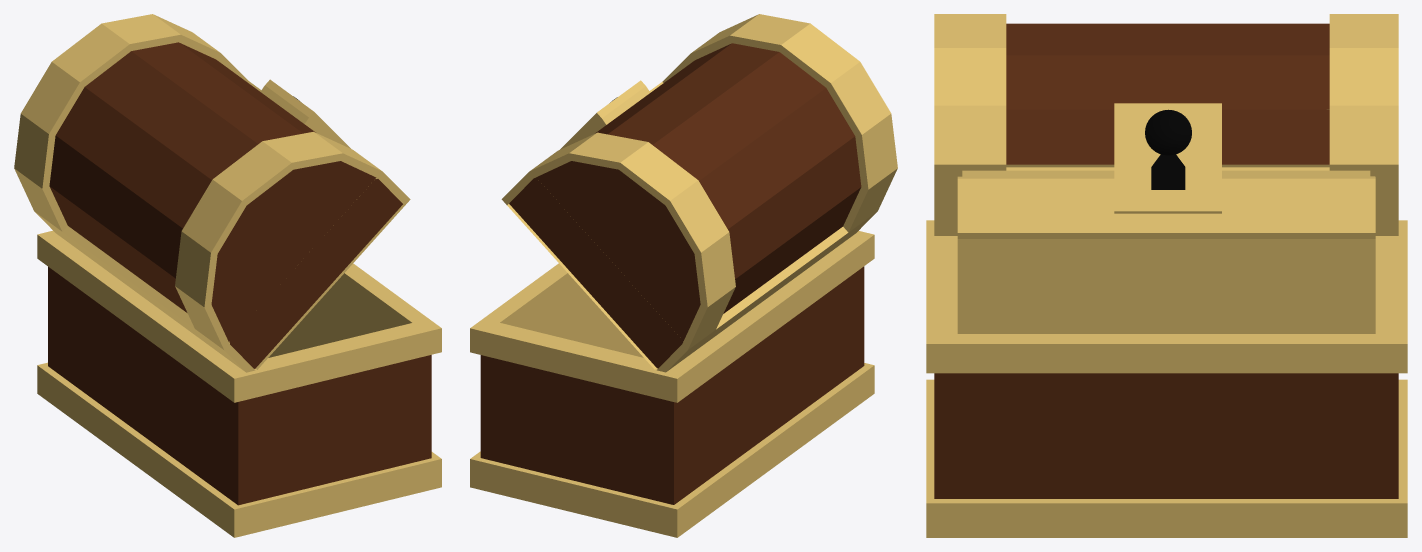
The model's file is Chest Opened.fbx.
3 renders of one model, left to right at view 1: azimuth 30°, elevation 25°; view 2: azimuth 150°, elevation 25°; view 3: azimuth 270°, elevation 25°, orthographic. The views are drawn at different scales.
Parts seen in each view (by area): view 1: Chest Opened; view 2: Chest Opened; view 3: Chest Opened.
Boxes of the visible parts, x1=… form: Chest Opened: x1=14, y1=14, x2=441, y2=537; Chest Opened: x1=470, y1=14, x2=897, y2=537; Chest Opened: x1=926, y1=14, x2=1407, y2=537.
Bounding box in the file's own units: 101 × 147 × 146.
